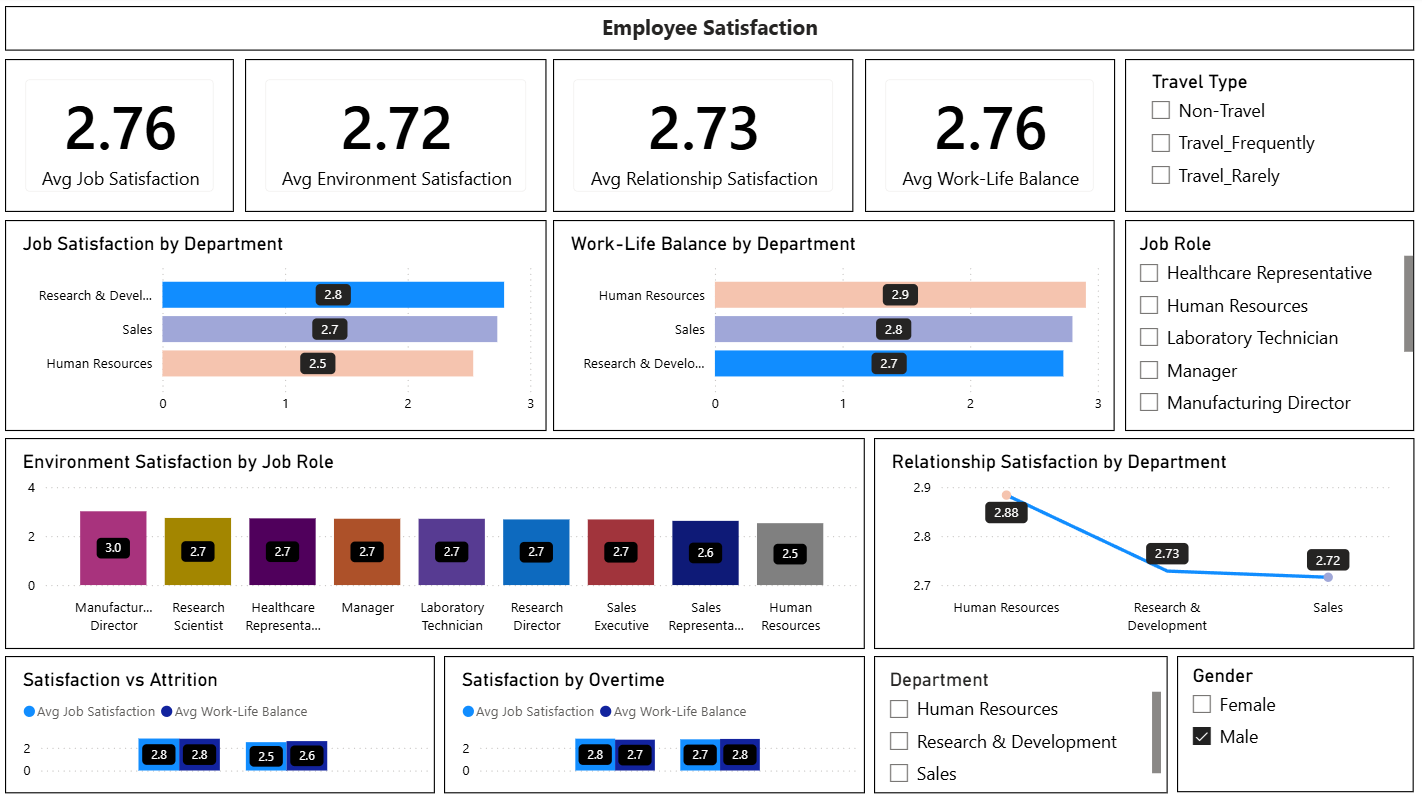

What the dashboard file says about the page in this screenshot:
{"tool":"powerbi","page":{"name":"Employee Satisfaction","canvas":[1280,720],"ordinal":5},"visuals":[{"type":"textbox","box":[9.7,7.8,1262.5,39.9],"z":0},{"type":"cardVisual","fields":{"Data":["hr business_travel.Average Job Satisfaction"]},"box":[9.7,55.4,205.2,137.1],"z":1000},{"type":"cardVisual","fields":{"Data":["hr business_travel.Average Environment Satisfaction"]},"box":[224.7,55.4,270.4,137.1],"z":2000},{"type":"cardVisual","fields":{"Data":["hr business_travel.Average Relationship Satisfaction"]},"box":[500.9,55.4,269.4,137.1],"z":3000},{"type":"cardVisual","fields":{"Data":["hr business_travel.Average Work-Life Balance"]},"box":[780.1,55.4,223.7,137.1],"z":4000},{"type":"clusteredBarChart","title":"Job Satisfaction by Department","fields":{"Category":["hr department.department_name"],"Y":["hr business_travel.Avg Job Satisfaction"]},"box":[9.7,199.4,485.3,188.7],"z":5000},{"type":"clusteredBarChart","title":"Work-Life Balance by Department","fields":{"Category":["hr department.department_name"],"Y":["hr business_travel.Avg Work-Life Balance"]},"box":[500.9,199.4,502.9,188.7],"z":6000},{"type":"clusteredColumnChart","title":"Environment Satisfaction by Job Role","fields":{"Category":["hr job_role.job_role_name"],"Y":["hr business_travel.Avg Environment Satisfaction"]},"box":[9.7,394.9,770.3,188.7],"z":7000},{"type":"lineChart","title":"Relationship Satisfaction by Department","fields":{"Category":["hr department.department_name"],"Y":["hr business_travel.Avg Relationship Satisfaction"]},"box":[787.8,394.9,484.4,188.7],"z":8000},{"type":"clusteredColumnChart","title":"Satisfaction vs Attrition","fields":{"Category":["hr employee.attrition"],"Y":["hr business_travel.Avg Job Satisfaction","hr business_travel.Avg Work-Life Balance"]},"box":[9.7,590.4,385.2,122.6],"z":9000},{"type":"clusteredColumnChart","title":"Satisfaction by Overtime","fields":{"Y":["hr business_travel.Avg Job Satisfaction","hr business_travel.Avg Work-Life Balance"],"Category":["hr employee.overtime"]},"box":[402.7,590.4,377.4,122.6],"z":10000},{"type":"slicer","fields":{"Values":["hr department.department_name"]},"box":[787.8,590.4,262.6,122.6],"z":11000},{"type":"slicer","fields":{"Values":["hr employee.gender"]},"box":[1059.2,590.4,212,121.6],"z":12000},{"type":"slicer","fields":{"Values":["hr job_role.job_role_name"]},"box":[1012.5,199.4,258.7,188.7],"z":13000},{"type":"slicer","fields":{"Values":["hr business_travel.business_travel_name"]},"box":[1012.5,55.4,258.7,137.1],"z":14000}]}

Visuals, with their boxes in screenshot pixels (x1, y1, x2, y2), scaled from the page's 1280x720 canvas onto the 1422x798 screenshot:
textbox: <region>11, 9, 1413, 53</region>
cardVisual - hr business_travel.Average Job Satisfaction: <region>11, 61, 239, 213</region>
cardVisual - hr business_travel.Average Environment Satisfaction: <region>250, 61, 550, 213</region>
cardVisual - hr business_travel.Average Relationship Satisfaction: <region>556, 61, 856, 213</region>
cardVisual - hr business_travel.Average Work-Life Balance: <region>867, 61, 1115, 213</region>
"Job Satisfaction by Department" clusteredBarChart: <region>11, 221, 550, 430</region>
"Work-Life Balance by Department" clusteredBarChart: <region>556, 221, 1115, 430</region>
"Environment Satisfaction by Job Role" clusteredColumnChart: <region>11, 438, 867, 647</region>
"Relationship Satisfaction by Department" lineChart: <region>875, 438, 1413, 647</region>
"Satisfaction vs Attrition" clusteredColumnChart: <region>11, 654, 439, 790</region>
"Satisfaction by Overtime" clusteredColumnChart: <region>447, 654, 867, 790</region>
slicer - hr department.department_name: <region>875, 654, 1167, 790</region>
slicer - hr employee.gender: <region>1177, 654, 1412, 789</region>
slicer - hr job_role.job_role_name: <region>1125, 221, 1412, 430</region>
slicer - hr business_travel.business_travel_name: <region>1125, 61, 1412, 213</region>
